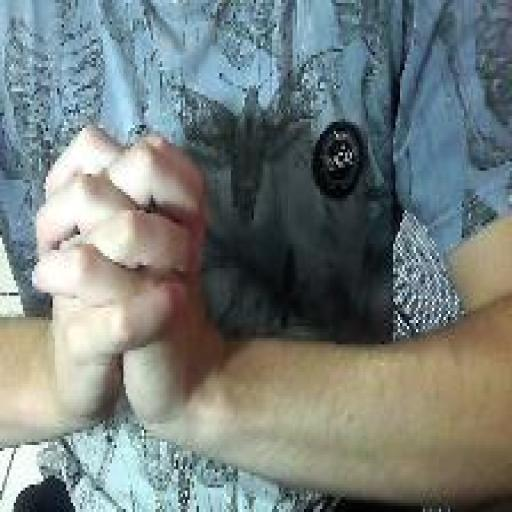Mi -snake-: (30, 113, 215, 448)
